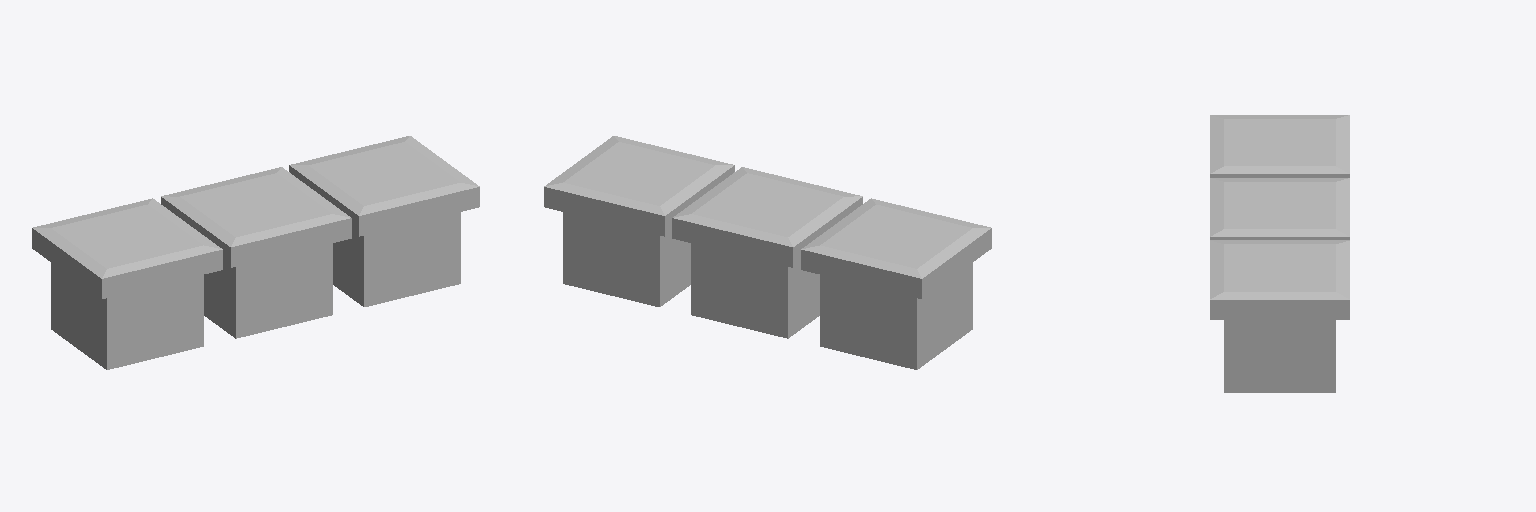
File: Platform5.obj
3 views of the same model, side by side, from view 1: azimuth 30°, elevation 25°; view 2: azimuth 150°, elevation 25°; view 3: azimuth 270°, elevation 25° (orthographic).
Parts seen in each view (by area): view 1: pCube27; view 2: pCube27; view 3: pCube27.
Boxes of the visible parts, x1,y1,x2,y2 form: pCube27: [32, 136, 479, 369]; pCube27: [544, 136, 991, 369]; pCube27: [1210, 115, 1349, 392].
Bounding box in the file's own units: 6.02 × 1.54 × 1.93.